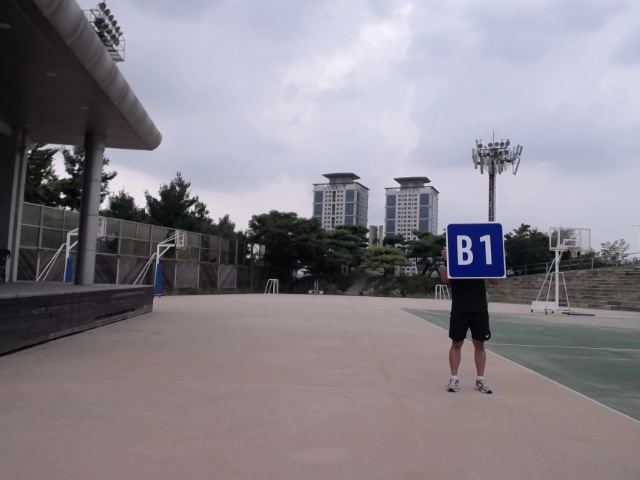delivery_b1: (445, 222, 506, 278)
